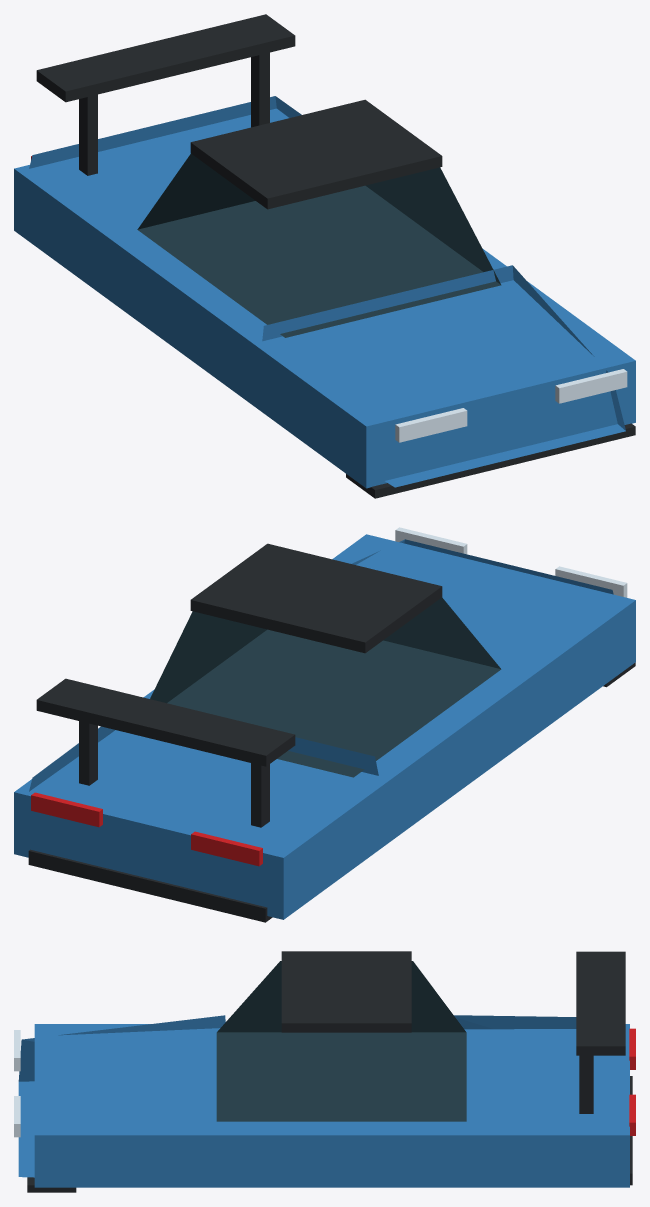
The model's file is body.glb.
3 views of the same model, one above another, from view 1: azimuth 30°, elevation 25°; view 2: azimuth 150°, elevation 25°; view 3: azimuth 270°, elevation 25° (orthographic). The views are drawn at different scales.
Visible parts, largest first — view 1: body_shell, cabin_glass, aero, headlights; view 2: body_shell, cabin_glass, aero, taillights, headlights; view 3: body_shell, cabin_glass, aero, headlights, taillights.
Part boxes in pixels (bbox=[...]): body_shell: bbox=[14, 96, 635, 488]; cabin_glass: bbox=[137, 153, 501, 337]; aero: bbox=[36, 14, 635, 498]; headlights: bbox=[395, 369, 627, 442]; body_shell: bbox=[14, 534, 635, 919]; cabin_glass: bbox=[150, 597, 501, 777]; aero: bbox=[28, 543, 635, 922]; taillights: bbox=[31, 792, 262, 866]; headlights: bbox=[395, 527, 627, 597]; body_shell: bbox=[18, 1015, 629, 1187]; cabin_glass: bbox=[216, 961, 466, 1121]; aero: bbox=[27, 951, 632, 1192]; headlights: bbox=[14, 1030, 20, 1137]; taillights: bbox=[629, 1028, 635, 1135].
Size of the model in its own units: 1.82 by 1.16 by 4.3.
